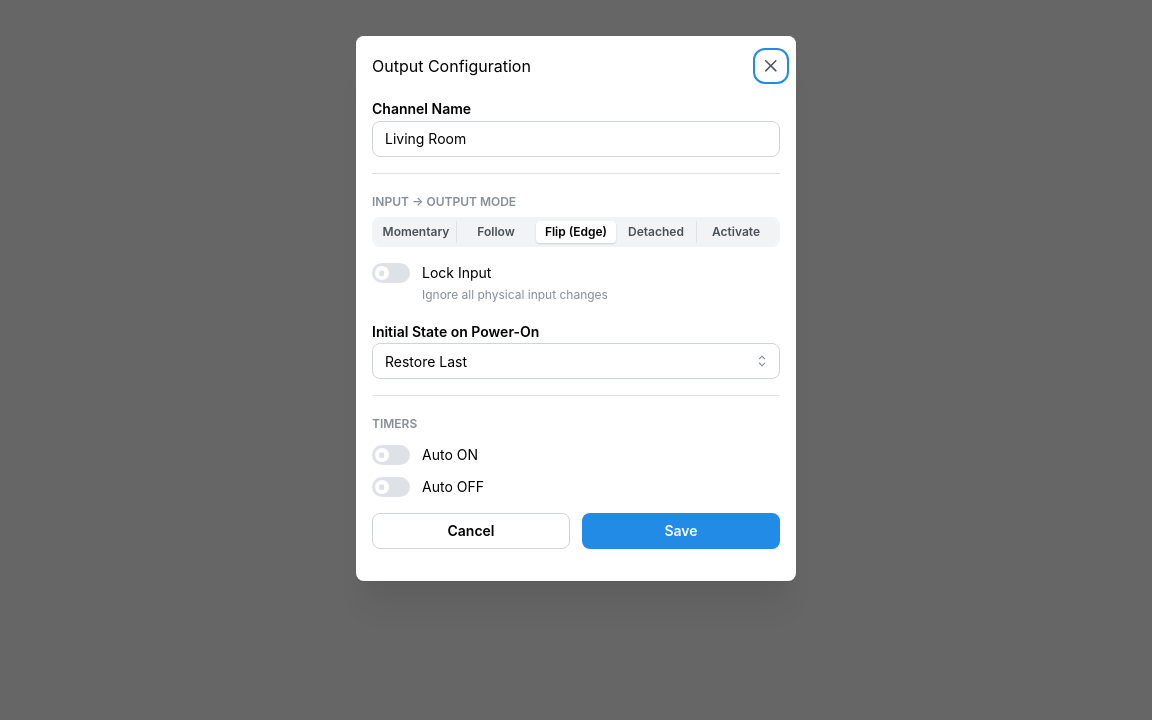
it: SwitchConfigPanel › shows Auto OFF Delay when Auto OFF is toggled on
Expected: the field labelled "Auto OFF Delay (s)" is not shown
Click the switch labelled "Auto OFF". click: (428, 487)
box: [372,477,484,497]
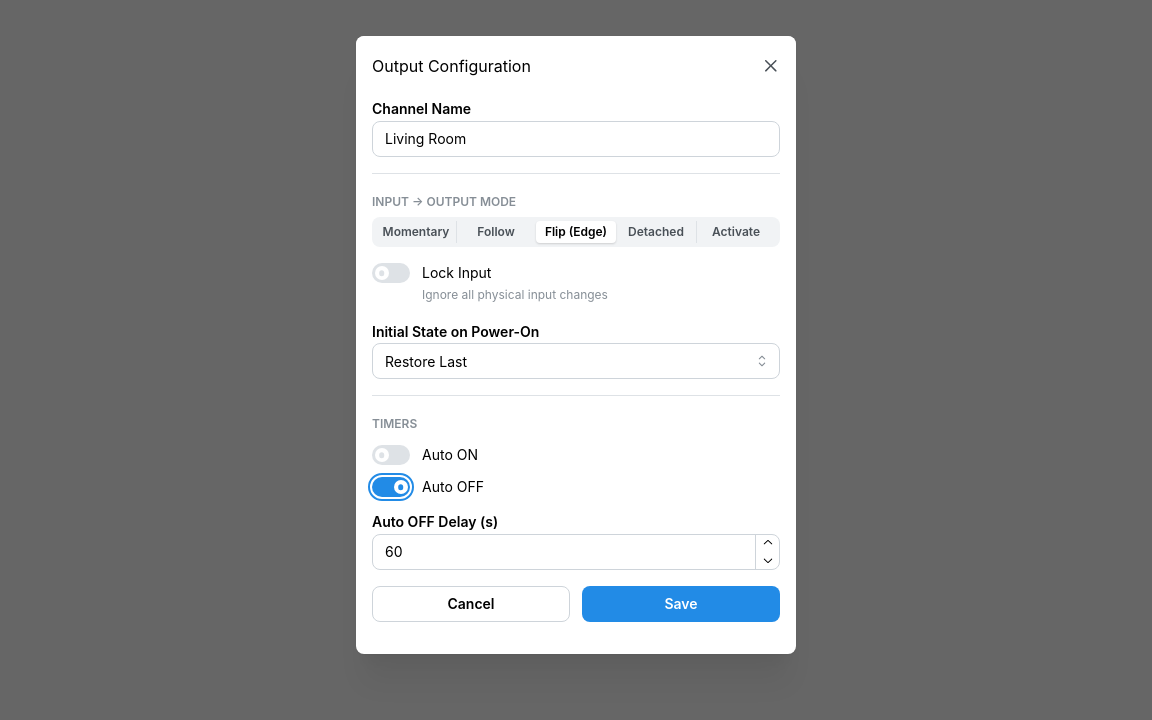
Expected: the field labelled "Auto OFF Delay (s)" is shown, [372,534,780,570]
